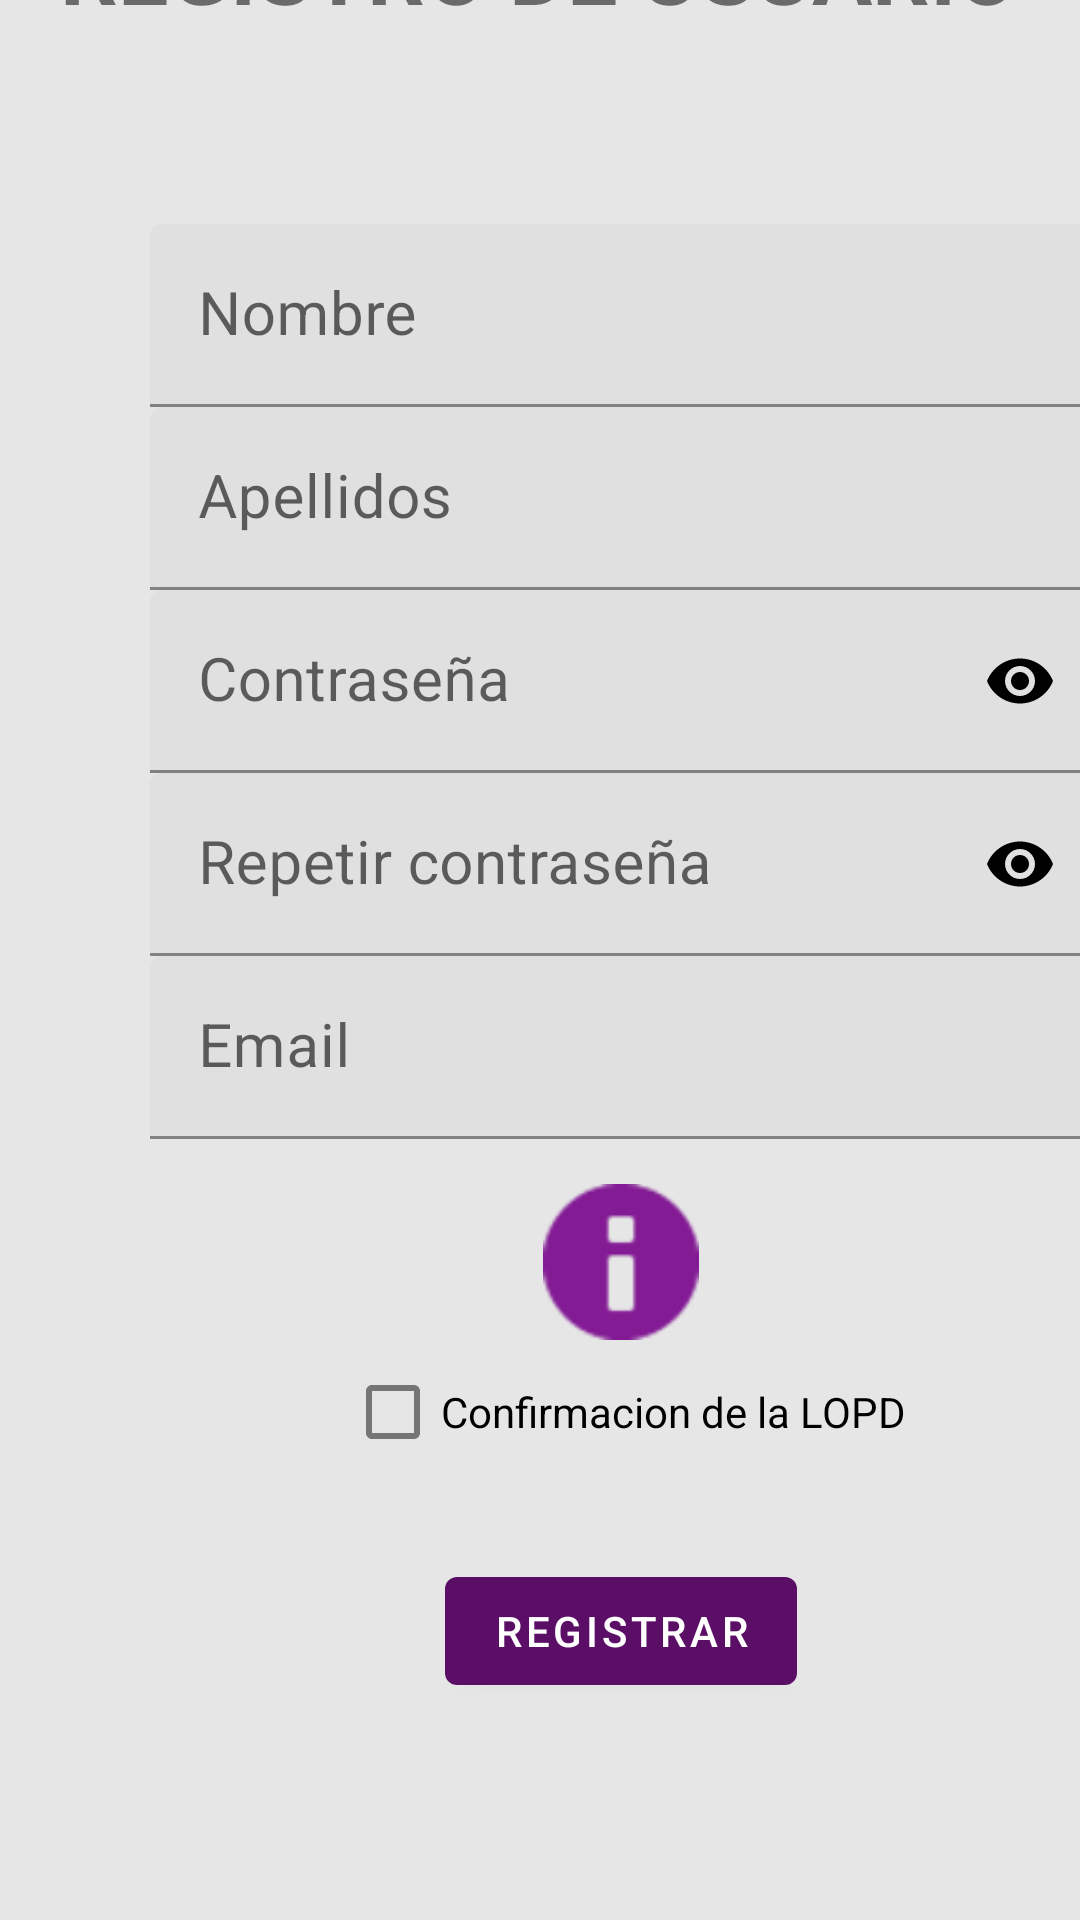

Screen size 1080px×1920px. Icon name, then its box in pixels as bbox=[x1, y1, x2, y2]:
info: bbox=[543, 1184, 699, 1340]
